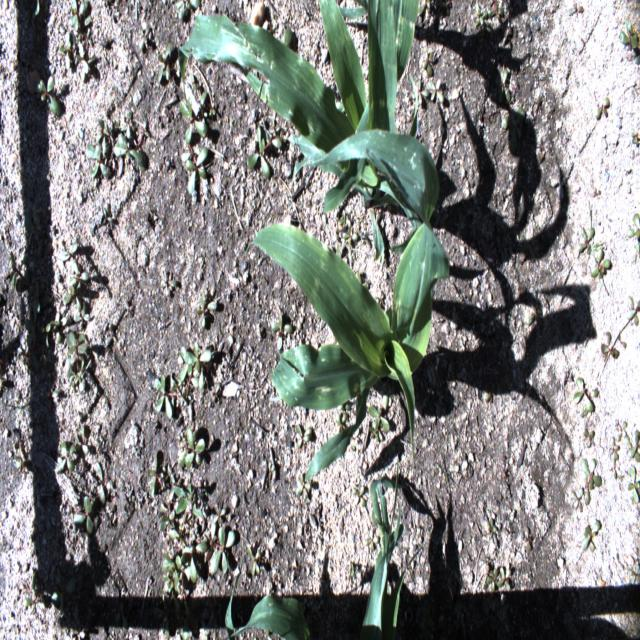crop: (242, 130, 450, 480), (178, 0, 439, 267), (224, 452, 425, 640)
weed: (8, 252, 49, 312), (586, 200, 609, 296), (163, 550, 195, 614), (154, 588, 193, 640), (247, 127, 282, 178), (204, 521, 236, 574), (180, 91, 208, 145), (181, 144, 208, 196), (184, 343, 211, 391), (114, 132, 148, 170), (50, 568, 76, 615), (500, 106, 526, 153), (436, 457, 463, 502), (154, 373, 180, 419), (86, 134, 113, 178), (178, 428, 206, 469), (25, 300, 44, 360), (181, 542, 208, 583), (172, 483, 202, 517), (94, 462, 118, 504), (24, 204, 43, 257), (22, 570, 45, 612), (40, 74, 62, 117), (581, 458, 601, 504), (147, 449, 165, 496), (67, 332, 88, 372), (65, 358, 91, 390), (74, 495, 94, 534), (196, 292, 217, 328), (271, 314, 292, 350), (56, 440, 78, 474), (67, 260, 90, 292), (95, 119, 117, 151), (627, 212, 640, 265), (574, 377, 593, 413), (343, 562, 361, 598), (619, 18, 638, 52), (176, 383, 193, 421), (600, 330, 620, 362), (157, 44, 173, 83), (581, 384, 599, 418), (590, 248, 610, 278), (580, 520, 600, 550), (133, 120, 151, 153), (69, 0, 88, 31), (368, 404, 389, 432), (2, 398, 25, 423), (63, 282, 82, 311), (184, 360, 202, 390), (115, 600, 132, 630), (118, 110, 136, 138), (496, 68, 510, 104), (74, 300, 90, 331), (15, 439, 29, 474), (175, 0, 199, 20), (37, 354, 54, 382), (168, 529, 186, 555), (411, 79, 429, 105), (628, 466, 640, 505), (52, 311, 66, 344), (60, 31, 71, 72), (624, 432, 639, 462), (419, 607, 433, 639), (626, 296, 640, 327), (160, 270, 176, 297), (579, 227, 595, 254), (74, 424, 88, 454), (43, 382, 58, 410), (76, 42, 89, 74), (521, 235, 536, 262), (81, 54, 95, 82), (527, 299, 541, 327), (247, 547, 260, 577), (296, 474, 311, 500), (296, 424, 312, 448), (46, 321, 60, 348), (490, 618, 507, 640), (487, 0, 504, 22), (500, 364, 514, 390), (627, 430, 640, 458), (74, 575, 82, 620), (429, 78, 444, 102), (594, 98, 610, 120), (571, 486, 584, 513), (180, 346, 192, 375), (176, 361, 188, 390), (160, 509, 175, 532), (31, 338, 41, 372), (364, 529, 379, 551), (342, 222, 357, 244), (422, 50, 434, 77), (60, 242, 77, 261), (497, 568, 511, 591), (334, 412, 347, 436), (104, 323, 118, 345), (139, 25, 151, 50), (352, 485, 367, 505), (486, 568, 498, 593), (474, 3, 486, 28), (567, 2, 584, 19), (209, 381, 221, 404), (610, 435, 621, 460), (78, 14, 92, 33), (484, 382, 495, 405), (368, 424, 382, 442), (628, 564, 640, 584), (434, 0, 445, 20), (584, 428, 595, 447), (212, 508, 225, 524), (102, 203, 112, 223), (418, 0, 431, 15), (269, 120, 281, 136), (488, 519, 498, 538), (616, 331, 627, 348), (631, 128, 640, 148), (618, 421, 627, 441), (171, 378, 182, 394), (336, 400, 352, 411), (339, 210, 350, 226), (441, 0, 452, 16), (524, 527, 531, 552), (84, 26, 92, 46), (167, 465, 175, 485), (85, 592, 92, 612), (30, 0, 39, 15), (268, 460, 275, 479), (73, 628, 85, 639), (592, 186, 601, 199), (208, 104, 216, 116), (612, 456, 616, 480)
